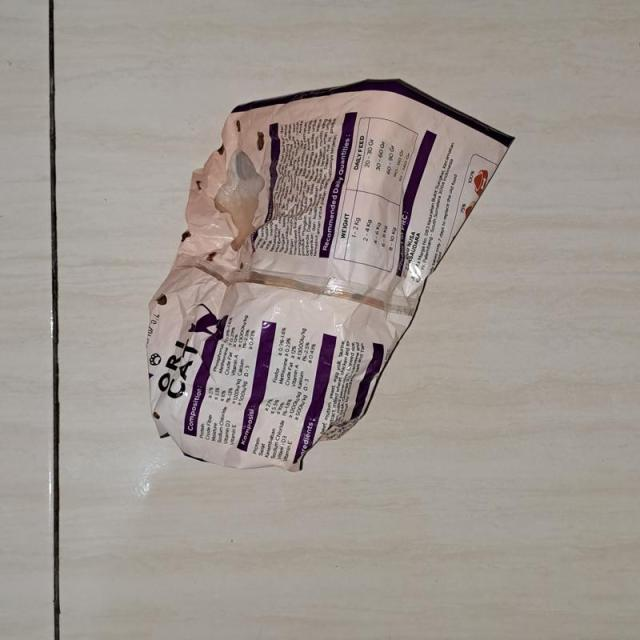Anorganik: (140, 69, 528, 496)
